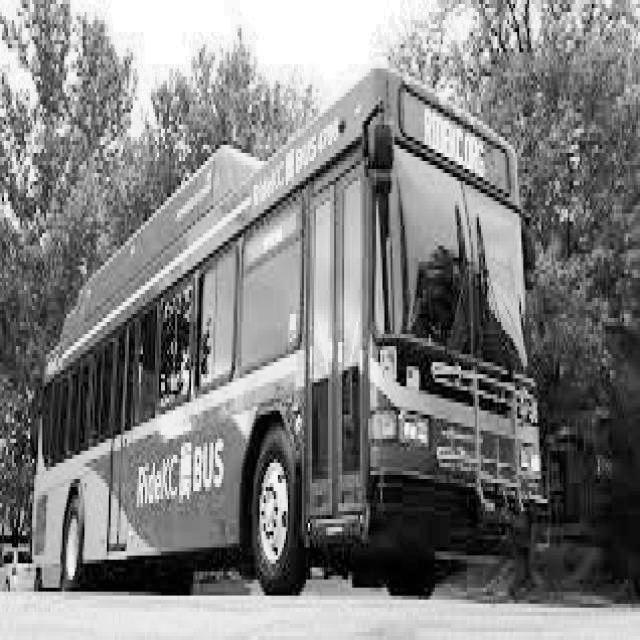Bus: (17, 62, 546, 598)
